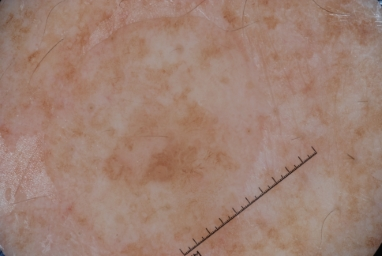seborrheic keratosis: (98, 74, 245, 195)
